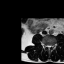CCS_normal: (48, 43, 49, 51)
LFS_normal: (51, 43, 53, 48)
LLS_stenosis: (49, 43, 51, 49)
RFS_stenosis: (44, 42, 46, 48)
RLS_normal: (46, 43, 48, 49)
